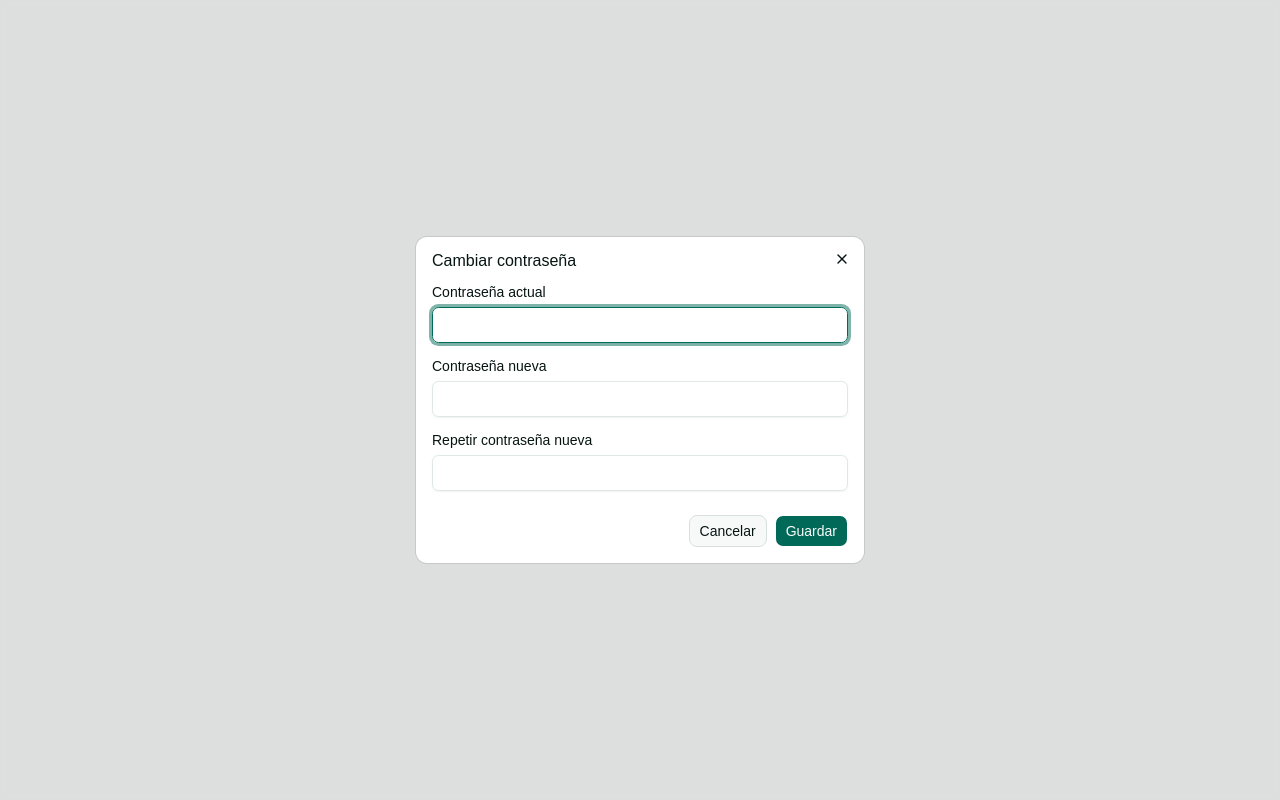
Test case: validación (sin tocar la API) › nueva igual a la actual
Type "misma-clave-1" into the password field labelled "Contraseña actual".
click(640, 325); type("misma-clave-1")  # box [432,307,848,343]
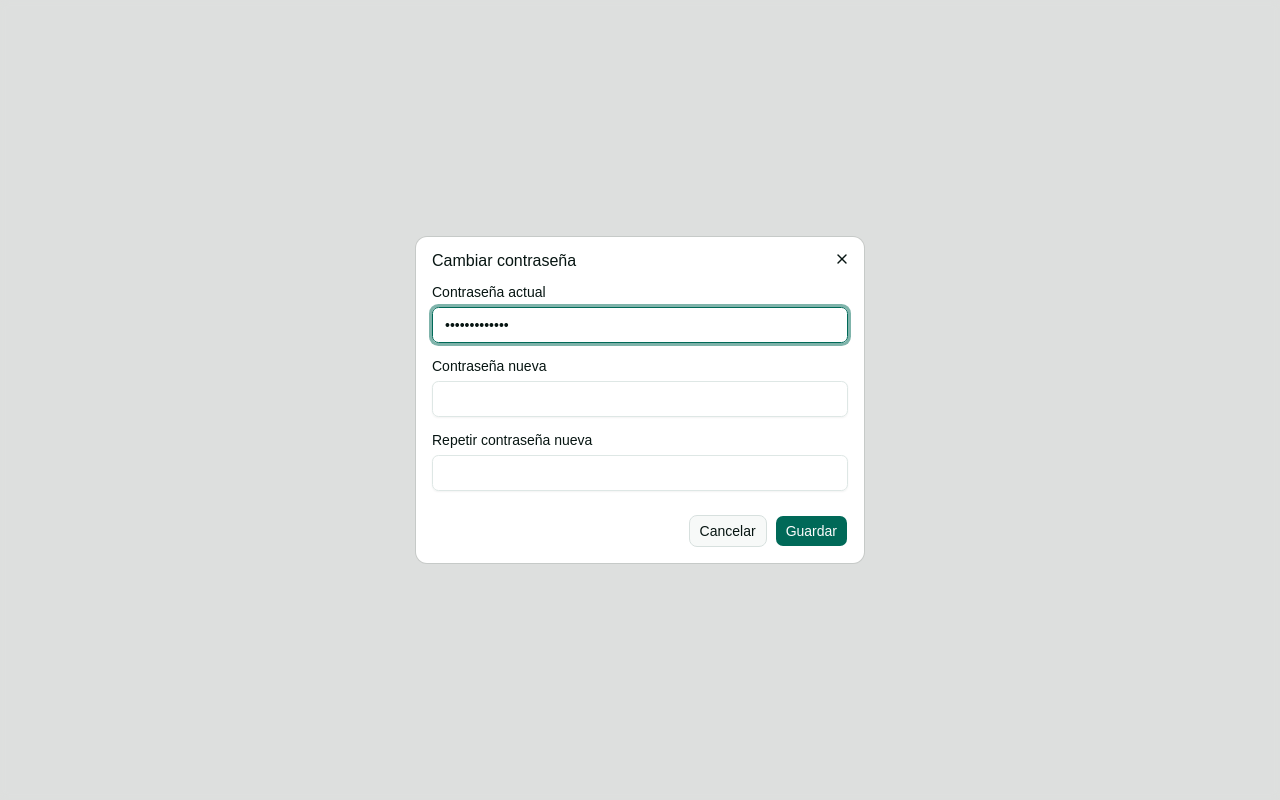
Type "misma-clave-1" into the password field labelled "Contraseña nueva".
click(640, 399); type("misma-clave-1")  # box [432,381,848,417]
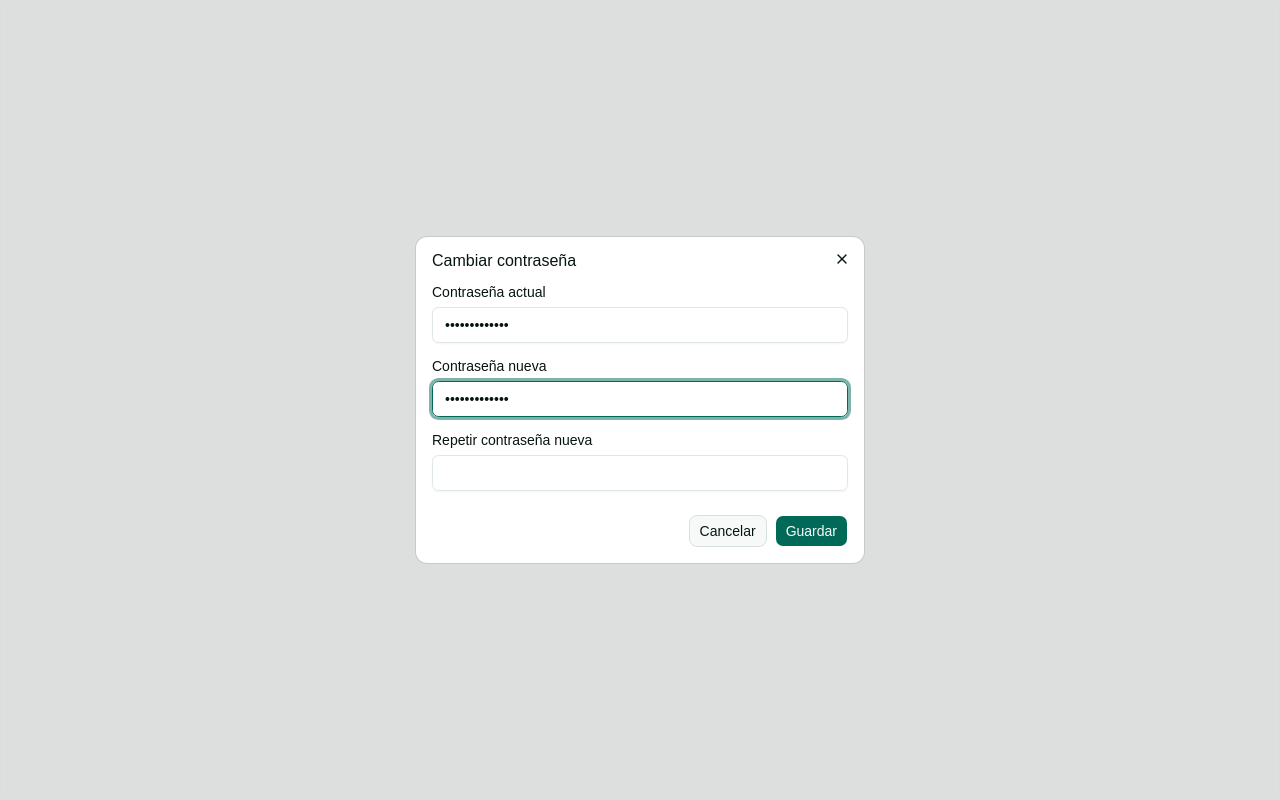
Type "misma-clave-1" into the password field labelled "Repetir contraseña nueva".
click(640, 473); type("misma-clave-1")  # box [432,455,848,491]
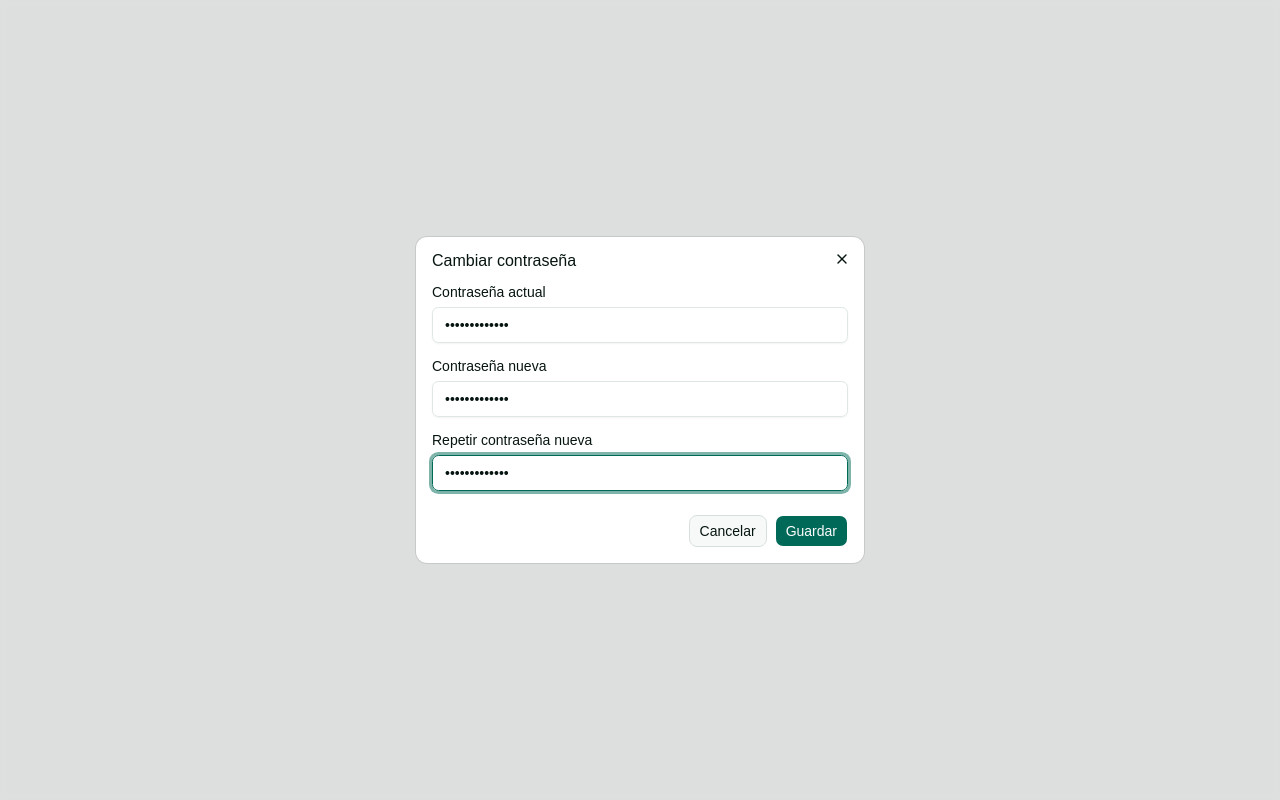
Click the button "Guardar".
click(811, 531)  # box [775,515,848,547]
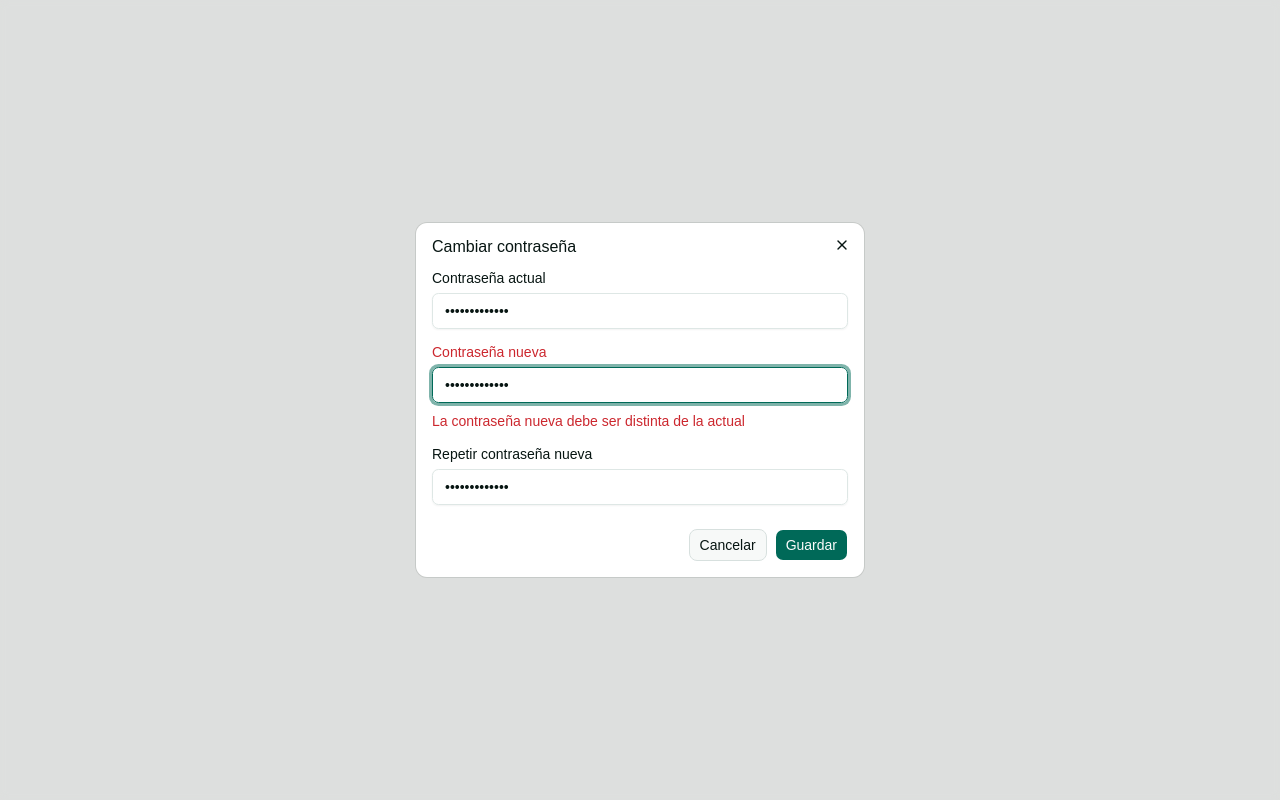
Check: the text "La contraseña nueva debe ser distinta de la actual" is shown, box [432,413,745,429]
